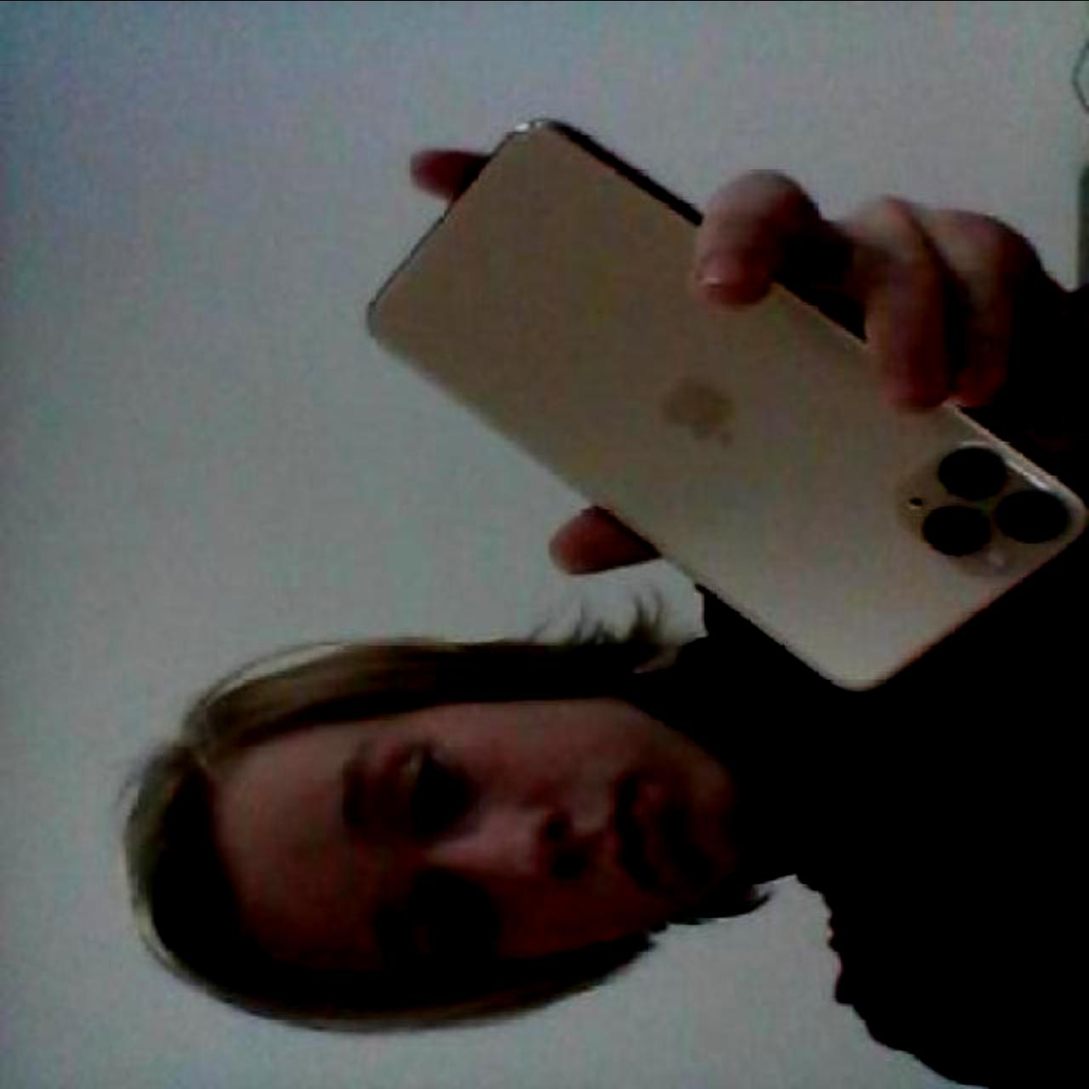phone: (322, 95, 1069, 708)
